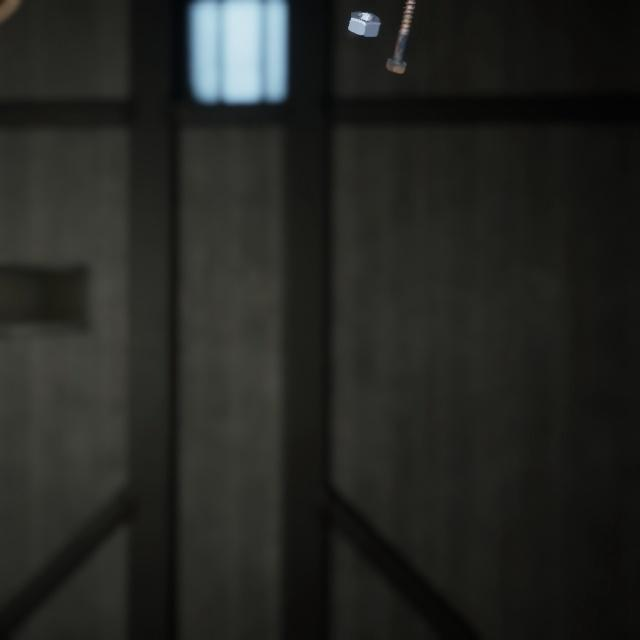bolt: (380, 0, 419, 70)
nut: (345, 0, 386, 33)
